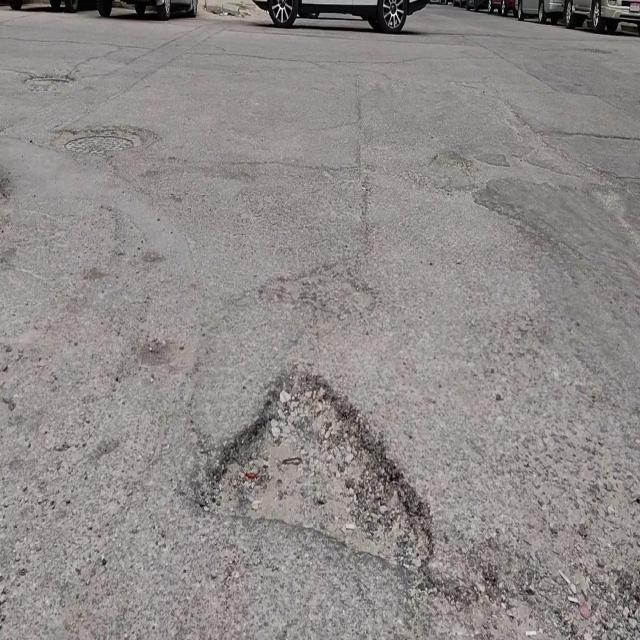Potholes: (185, 369, 437, 580)
